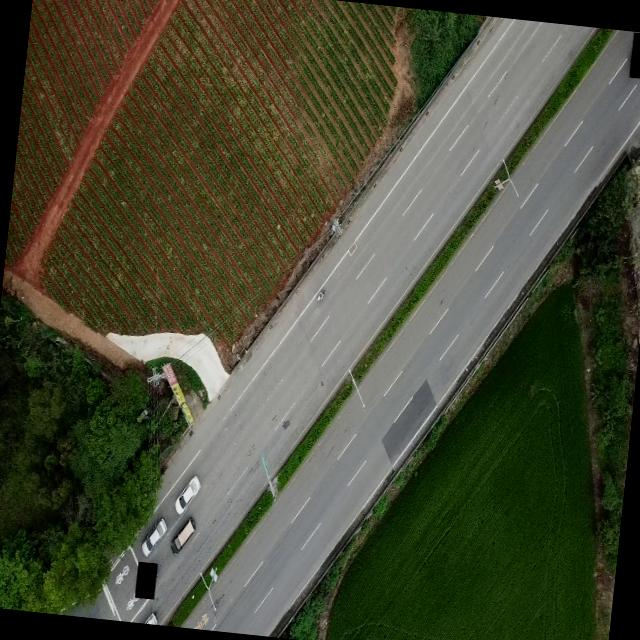bike: (314, 286, 326, 300)
car: (140, 514, 167, 556), (174, 473, 201, 515), (171, 515, 197, 553), (140, 606, 158, 624)
